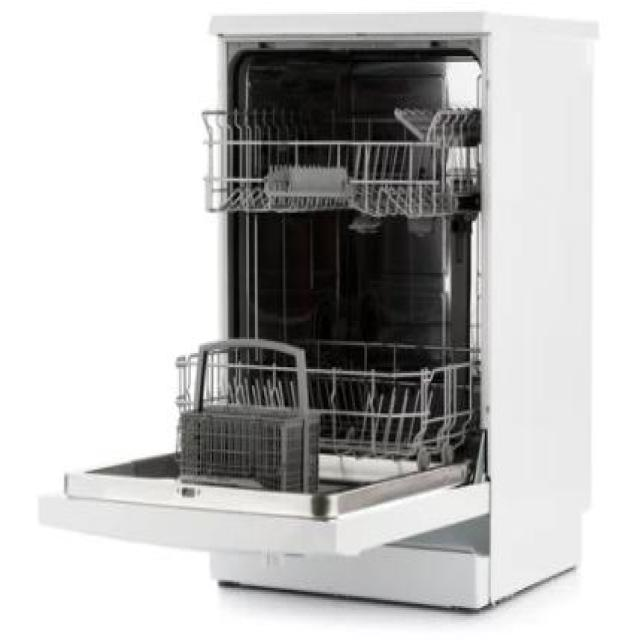dishwasher: (34, 0, 602, 610)
